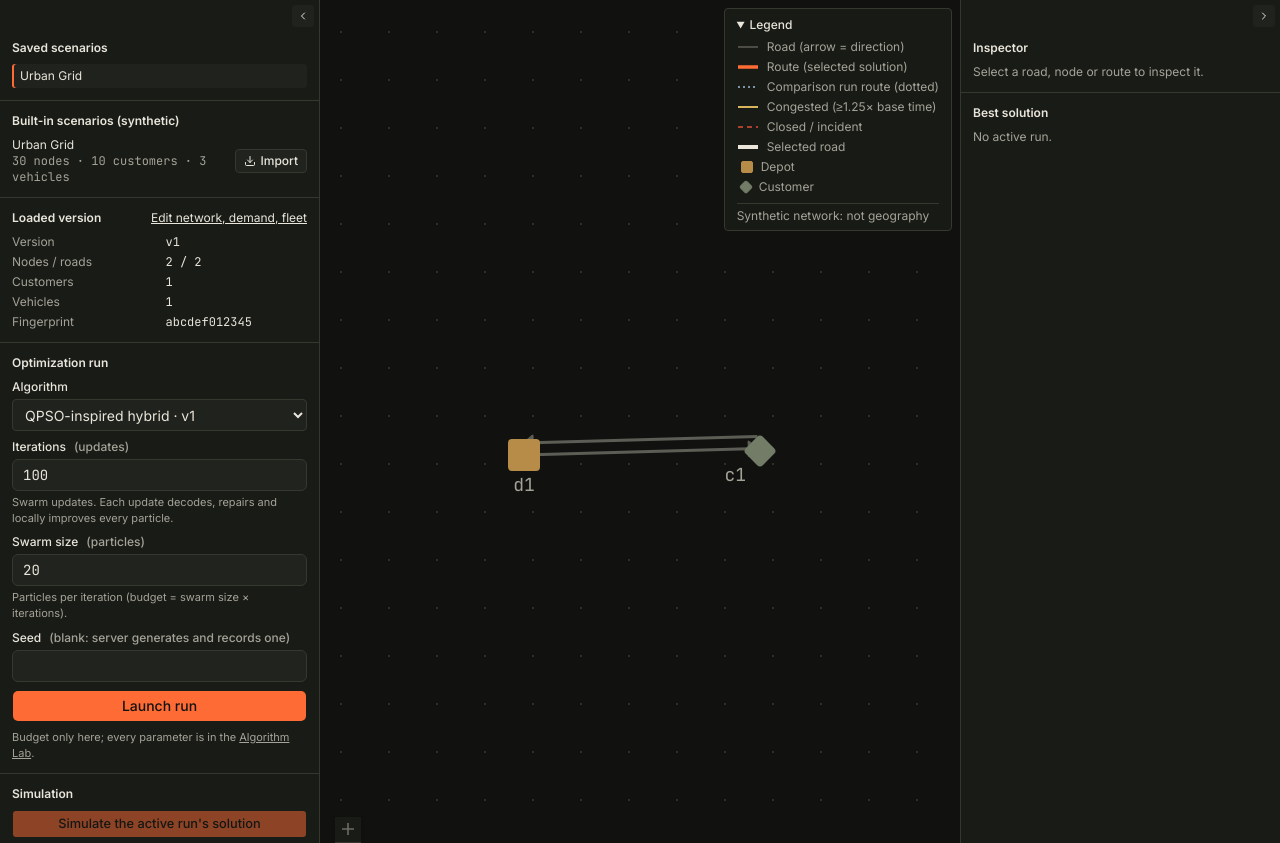
Test: Command Center › hides the seed field for a seedless solver
Select "OR-Tools CVRP (reference) · v1" in the dropdown labelled "Algorithm" at (160, 415), box [12,399,307,431]
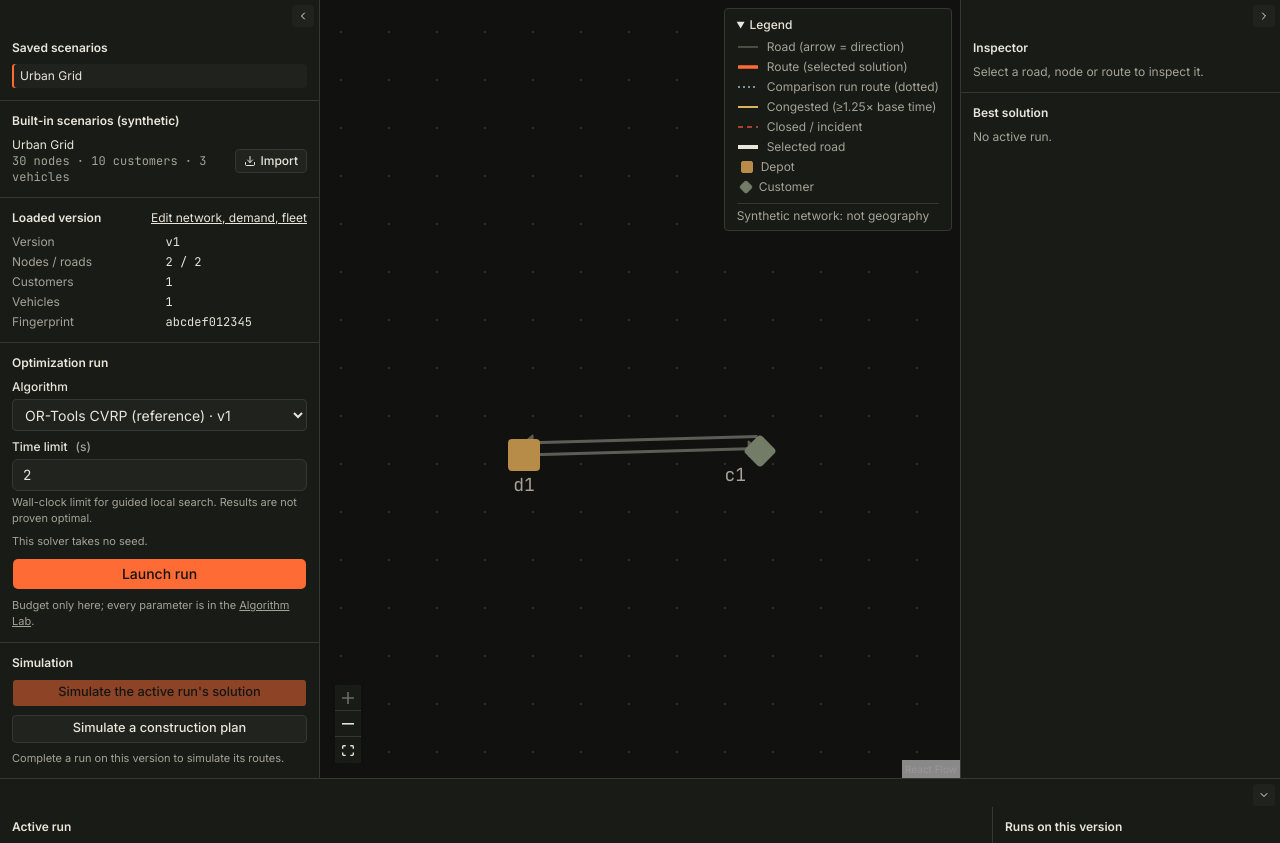
Check: the text "This solver takes no seed." is shown, box [12,534,148,548]
Check: the number field labelled "Time limit (s)" holds "2", box [12,459,307,491]
